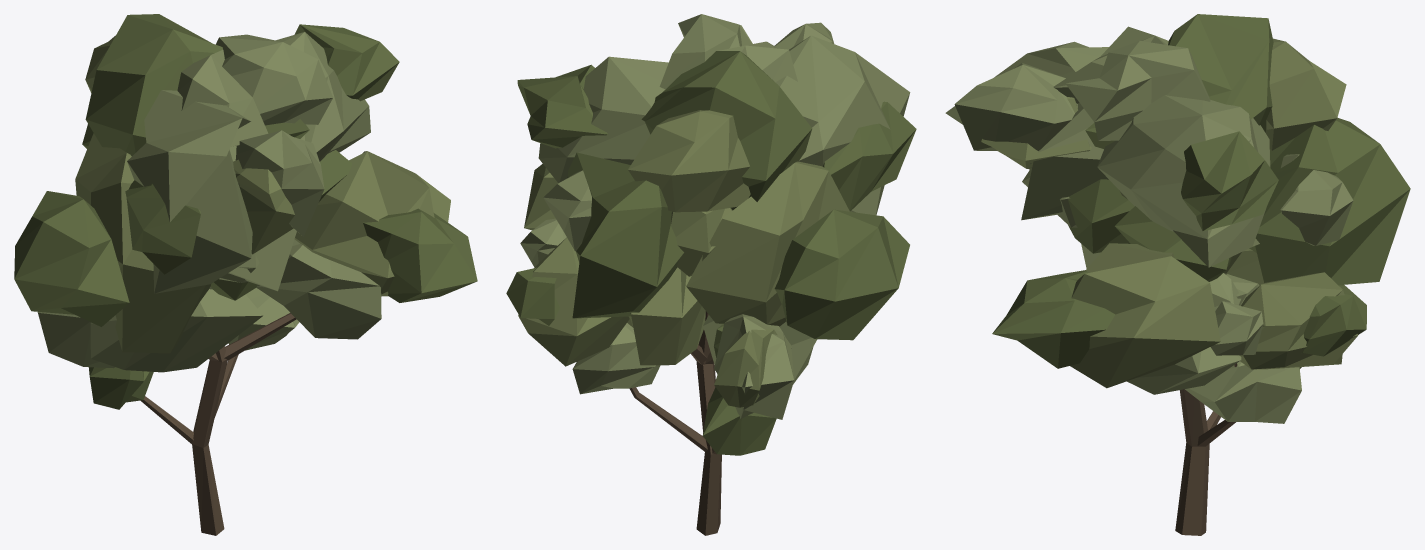
3 views of the same model, side by side, from view 1: azimuth 30°, elevation 25°; view 2: azimuth 150°, elevation 25°; view 3: azimuth 270°, elevation 25° (orthographic). The views are drawn at different scales.
Visible parts, largest first — view 1: compact-union; view 2: compact-union; view 3: compact-union.
Part boxes in pixels (box(x1,y1,x2,y2)): compact-union: box(14, 14, 477, 535); compact-union: box(506, 14, 916, 535); compact-union: box(945, 14, 1410, 535).
Size of the model in its own units: 17.44 by 20.77 by 17.41.
